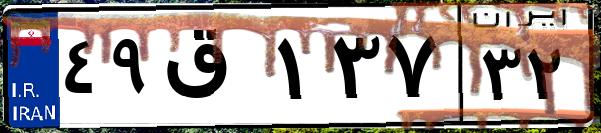1: (270, 28, 330, 110)
2: (525, 38, 570, 115)
3: (330, 28, 385, 110), (475, 38, 525, 113)
4: (57, 26, 110, 100)
7: (385, 28, 445, 110)
9: (110, 28, 158, 98)
ق: (158, 20, 270, 120)
